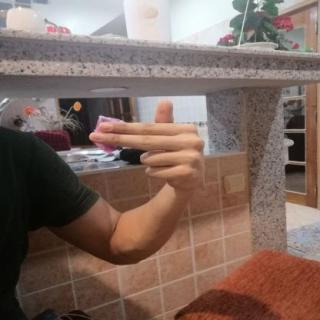GHAYN: (80, 90, 218, 198)
